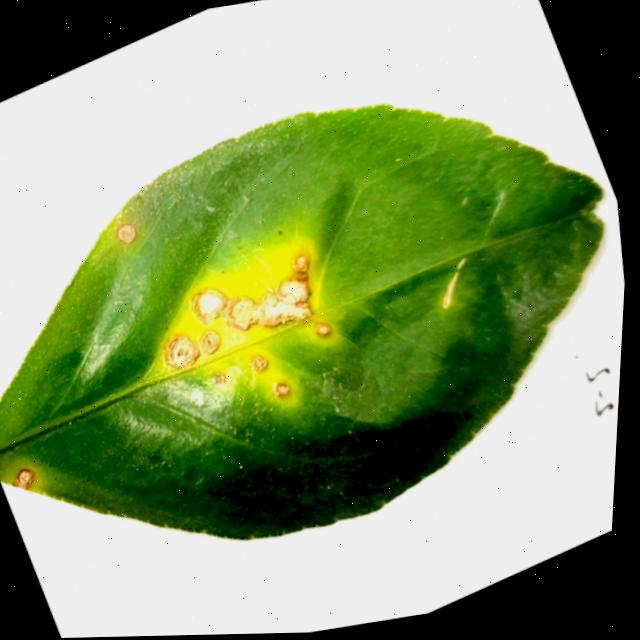antracnose: (0, 104, 603, 538), (192, 274, 310, 329), (164, 335, 198, 367), (199, 330, 219, 353), (13, 468, 33, 488), (291, 249, 308, 272), (117, 223, 135, 242), (249, 355, 267, 370), (315, 322, 331, 336), (273, 382, 288, 396), (214, 371, 225, 383)
